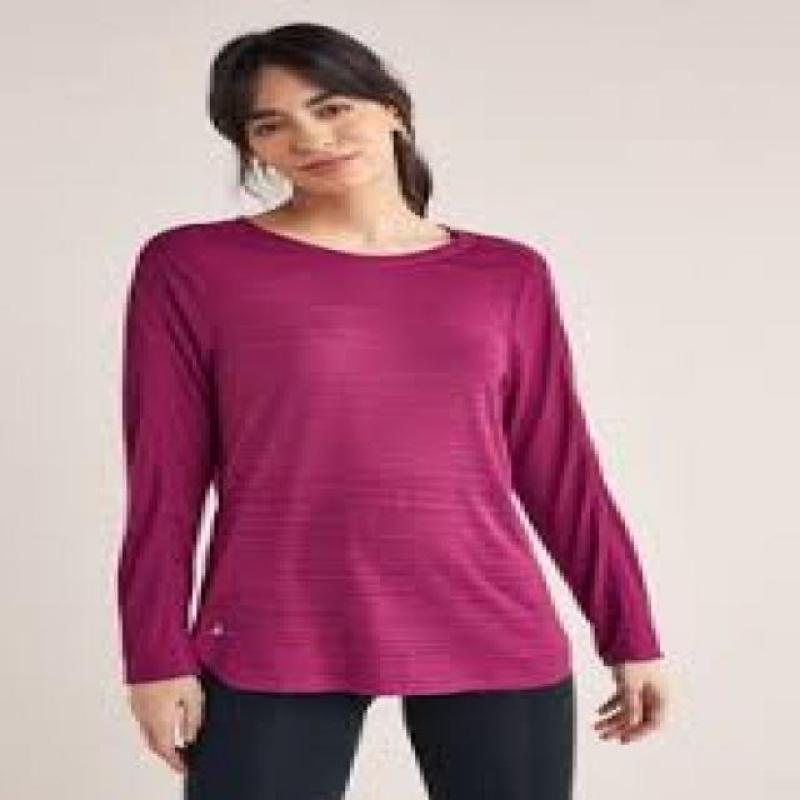long sleeve shirt: (112, 214, 666, 696)
trousers: (177, 661, 577, 800)
